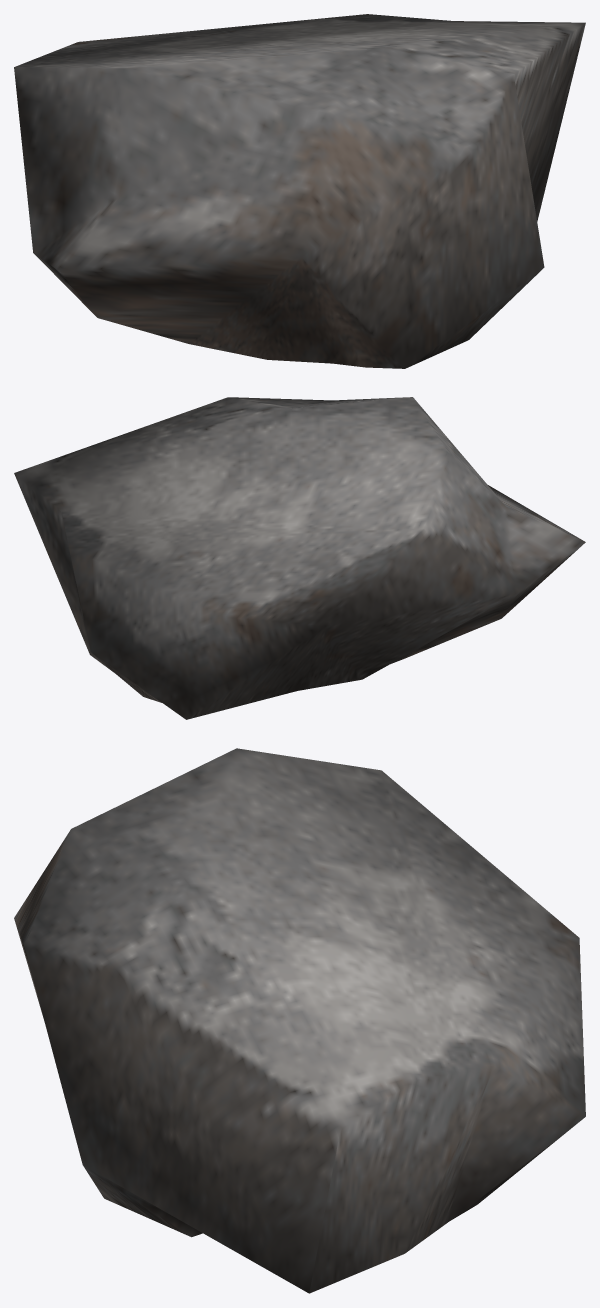
The model's file is forest_rock_7.glb.
3 renders of one model, top to bottom at view 1: azimuth 30°, elevation 25°; view 2: azimuth 150°, elevation 25°; view 3: azimuth 270°, elevation 25°, orthographic. The views are drawn at different scales.
Visible parts, largest first — view 1: Rocks.007_Rocks_0; view 2: Rocks.007_Rocks_0; view 3: Rocks.007_Rocks_0.
Boxes of the visible parts, x1=… form: Rocks.007_Rocks_0: x1=14, y1=14, x2=585, y2=368; Rocks.007_Rocks_0: x1=14, y1=397, x2=585, y2=719; Rocks.007_Rocks_0: x1=14, y1=748, x2=585, y2=1293.
Size of the model in its own units: 2.37 by 1.1 by 1.78.
1 material, 1 textured.
